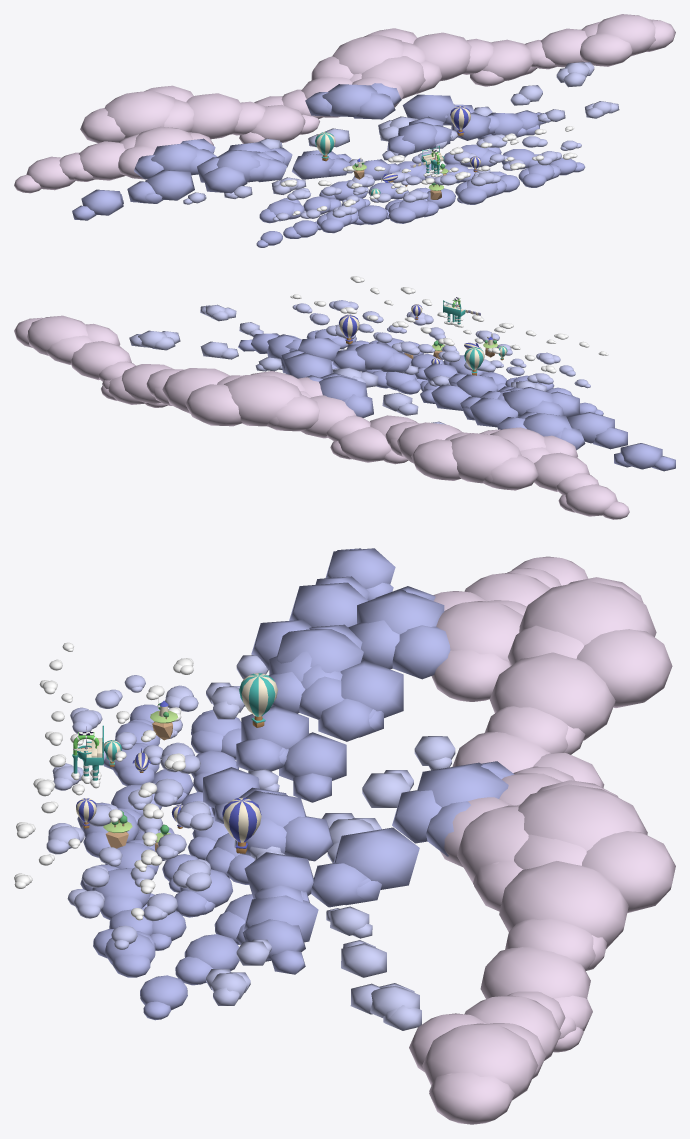
Rendered from race.glb.
3 renders of one model, top to bottom at view 1: azimuth 30°, elevation 25°; view 2: azimuth 150°, elevation 25°; view 3: azimuth 270°, elevation 25°, orthographic. The views are drawn at different scales.
Parts seen in each view (by area): view 1: horizon_1, clouds_far, horizon_3, horizon_4, horizon_bank, far_sea_9, far_sea_7, horizon_2, clouds_mid, far_sea_3, far_sea_5, far_bank_b (+9 smaller); view 2: horizon_3, horizon_1, horizon_4, horizon_bank, far_sea_9, horizon_2, far_sea_5, clouds_mid, far_sea_7, far_sea_3, clouds_far, clouds_near (+8 smaller); view 3: horizon_3, horizon_1, clouds_far, horizon_4, far_sea_5, far_sea_7, clouds_mid, horizon_bank, far_sea_9, far_sea_3, horizon_2, far_bank_b (+9 smaller).
Boxes of the visible parts, <box> form: horizon_1: <box>80,85,319,143</box>; clouds_far: <box>259,144,585,230</box>; horizon_3: <box>311,28,533,86</box>; horizon_4: <box>521,14,675,76</box>; horizon_bank: <box>14,126,213,193</box>; far_sea_9: <box>72,149,274,220</box>; far_sea_7: <box>305,83,539,139</box>; horizon_2: <box>254,56,441,118</box>; clouds_mid: <box>287,134,581,202</box>; far_sea_3: <box>387,110,545,155</box>; far_sea_5: <box>134,138,351,179</box>; far_bank_b: <box>248,150,400,182</box>; horizon_3: <box>102,364,319,431</box>; horizon_1: <box>370,415,538,490</box>; horizon_4: <box>14,315,167,407</box>; horizon_bank: <box>479,427,629,519</box>; far_sea_9: <box>497,387,675,471</box>; horizon_2: <box>243,371,408,464</box>; far_sea_5: <box>420,384,585,450</box>; clouds_mid: <box>292,300,553,384</box>; far_sea_7: <box>267,334,373,417</box>; far_sea_3: <box>238,333,411,371</box>; clouds_far: <box>287,328,506,394</box>; clouds_near: <box>290,276,556,373</box>; horizon_3: <box>480,780,675,1039</box>; horizon_1: <box>452,577,672,773</box>; clouds_far: <box>77,709,254,1020</box>; horizon_4: <box>409,991,592,1124</box>; far_sea_5: <box>279,586,450,802</box>; far_sea_7: <box>243,761,514,961</box>; clouds_mid: <box>46,685,213,949</box>; horizon_bank: <box>431,556,587,701</box>; far_sea_9: <box>251,548,395,688</box>; far_sea_3: <box>239,787,333,974</box>; horizon_2: <box>440,753,604,911</box>; far_bank_b: <box>203,651,344,823</box>.
Size of what is drawn, in the model's own units: 248 by 27.64 by 119.
